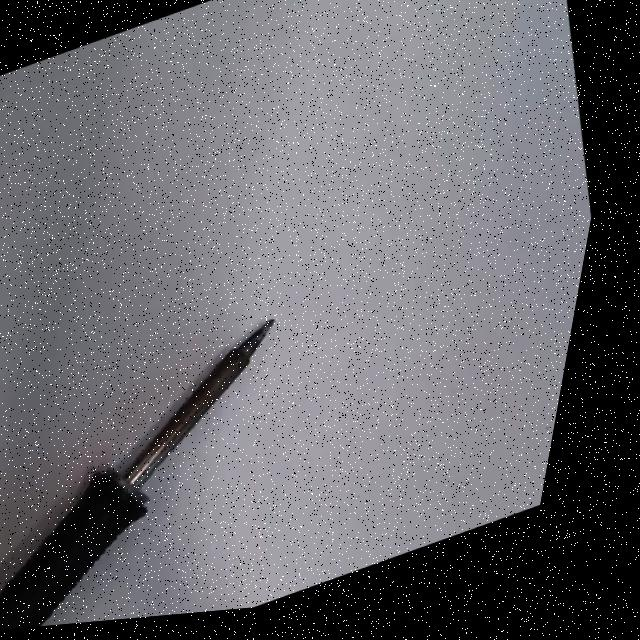soldering_iron: (0, 302, 358, 638)
